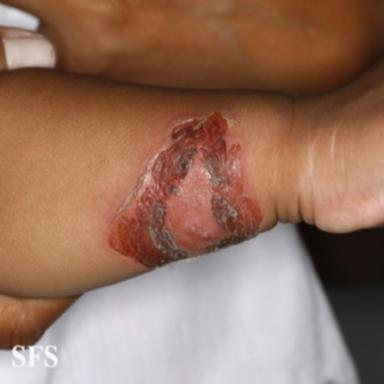Impetigo: (100, 105, 266, 269)
